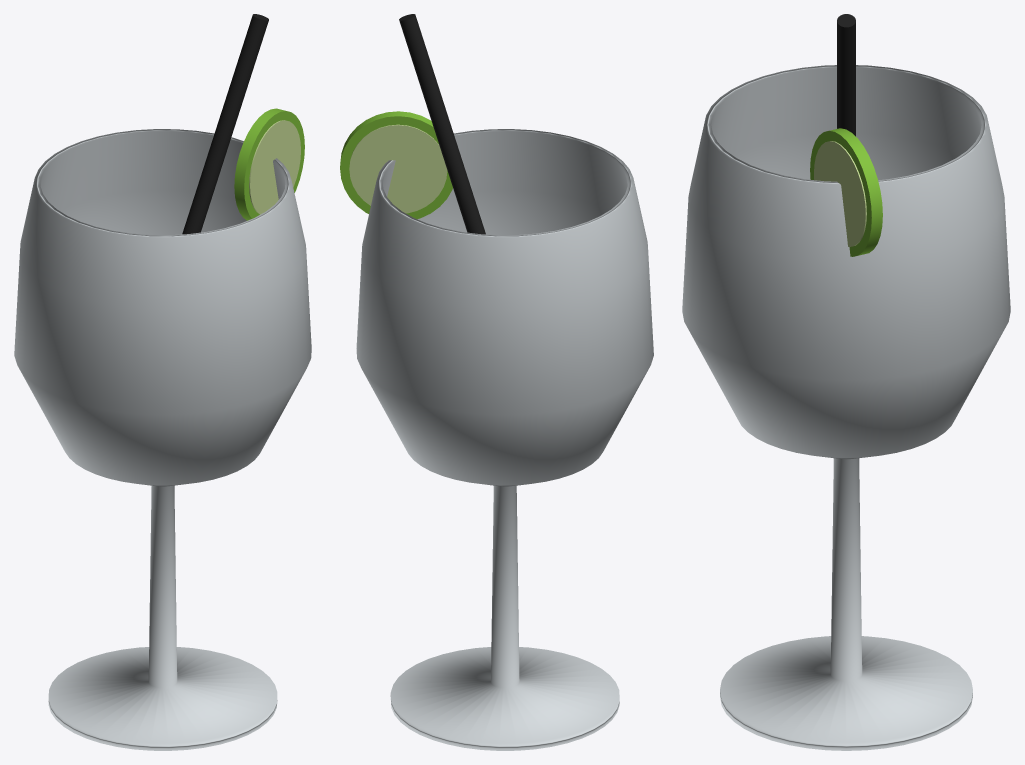
Rendered from bibite-select-spritz.glb.
The picture shows the model from 3 angles, left to right: view 1: azimuth 30°, elevation 25°; view 2: azimuth 150°, elevation 25°; view 3: azimuth 270°, elevation 25°; orthographic projection. The views are drawn at different scales.
Size of the model in its own units: 0.1139 by 0.2558 by 0.104.
